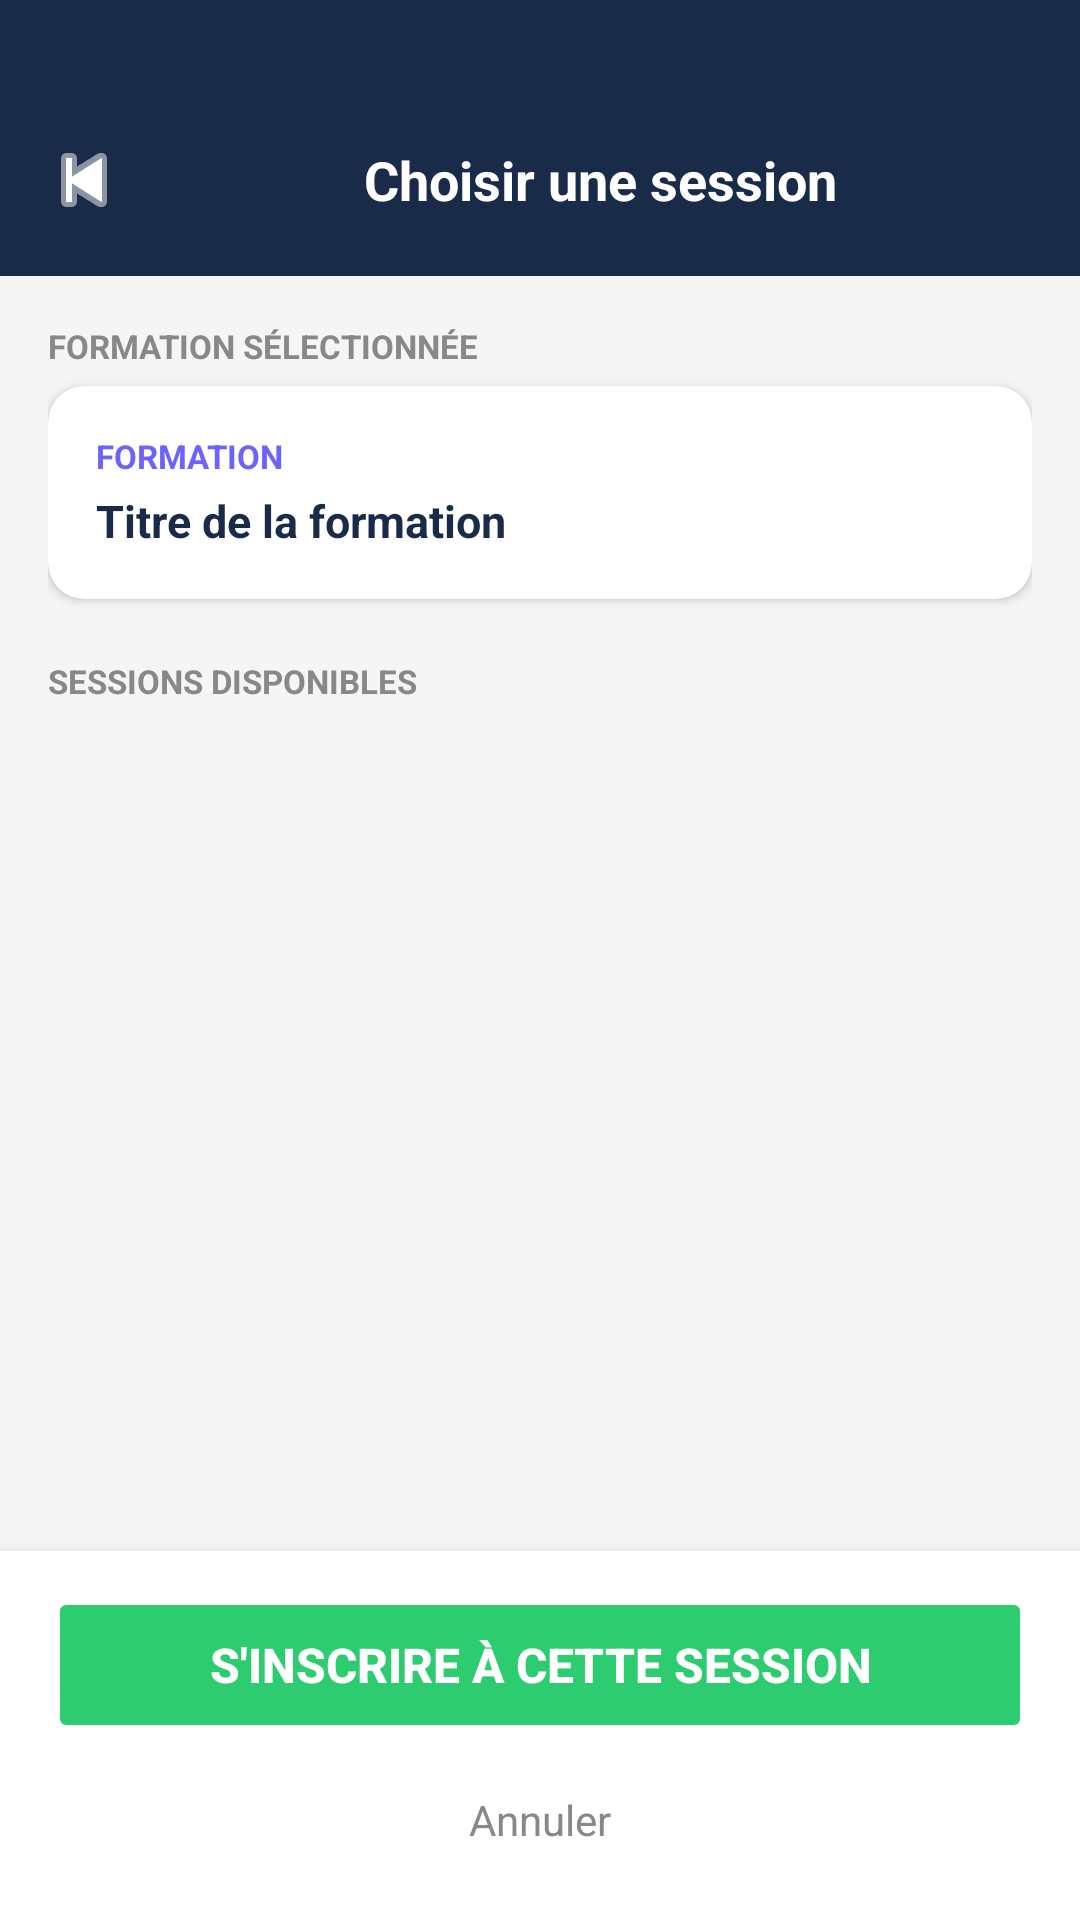

Screen size 1080x1920. Icon name, then its center in pixels as [x,y]:
Retour: [84,180]
